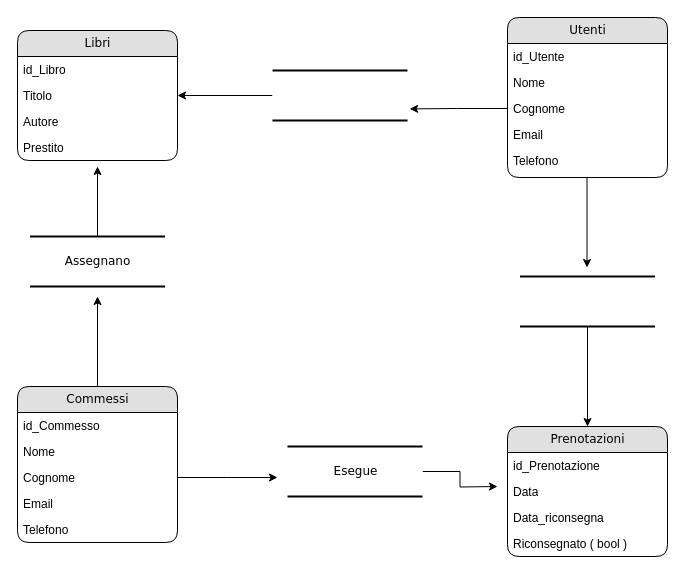
The diagram is 685 pixels wide and 577 high, and some of its shapes have lost their labels. The shapes that lost their labels are listed below. From the top down, each one's centre as x and y in pixels, then its label:
At (339,95): "Prenotano".
At (587,301): "Effettuano".
